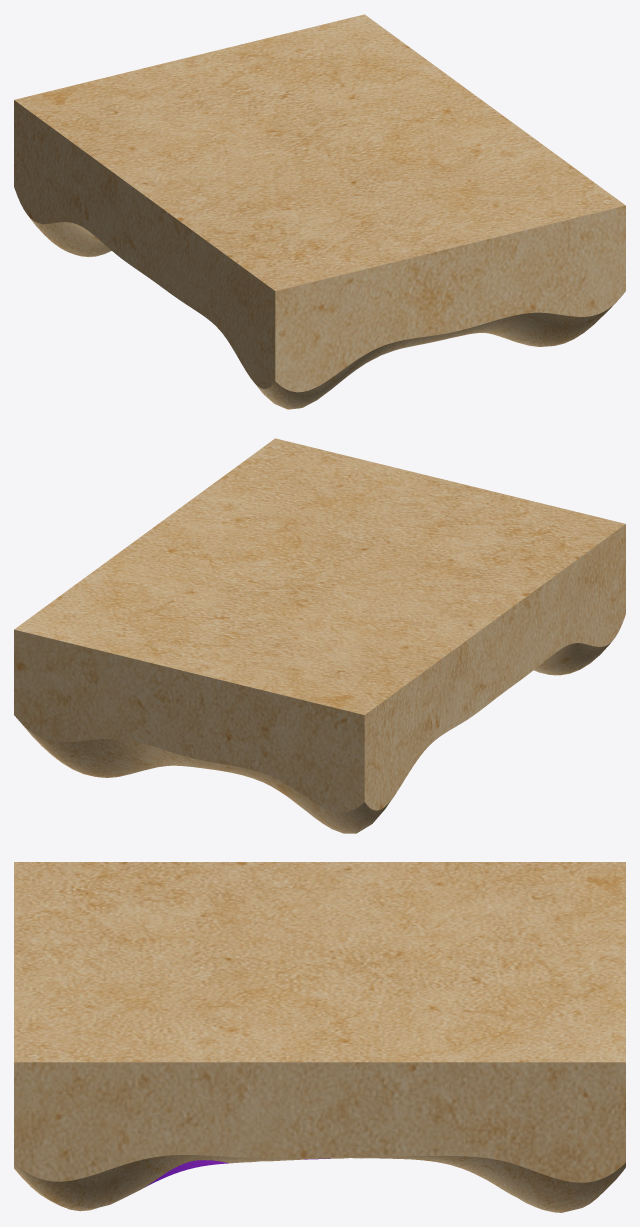
Rendered from museum_roof.glb.
The picture shows the model from 3 angles, top to bottom: view 1: azimuth 30°, elevation 25°; view 2: azimuth 150°, elevation 25°; view 3: azimuth 270°, elevation 25°; orthographic projection. The views are drawn at different scales.
Visible parts, largest first — view 1: techo_bacterias_preuba_2; view 2: techo_bacterias_preuba_2; view 3: techo_bacterias_preuba_2.
Boxes of the visible parts, x1,y1,x2,y2 form: techo_bacterias_preuba_2: (14,14,625,409); techo_bacterias_preuba_2: (14,438,625,833); techo_bacterias_preuba_2: (14,862,625,1212).
Size of the model in its own units: 16.64 by 6.94 by 21.47.
Materials: 2 (2 with a texture image).
